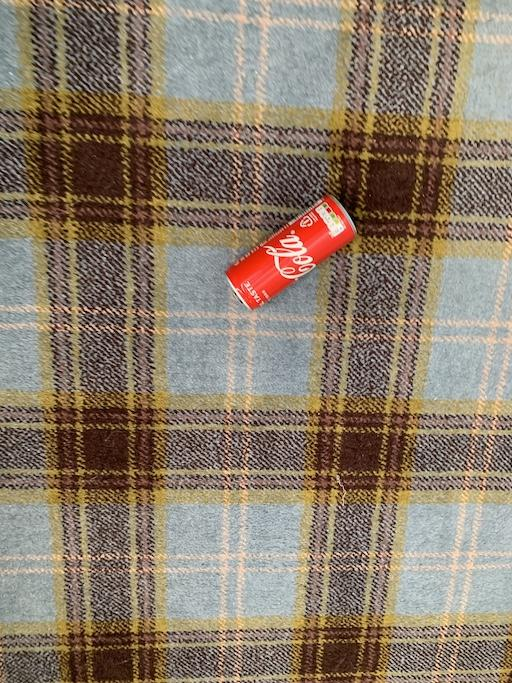Aluminum can: (210, 180, 382, 327)
